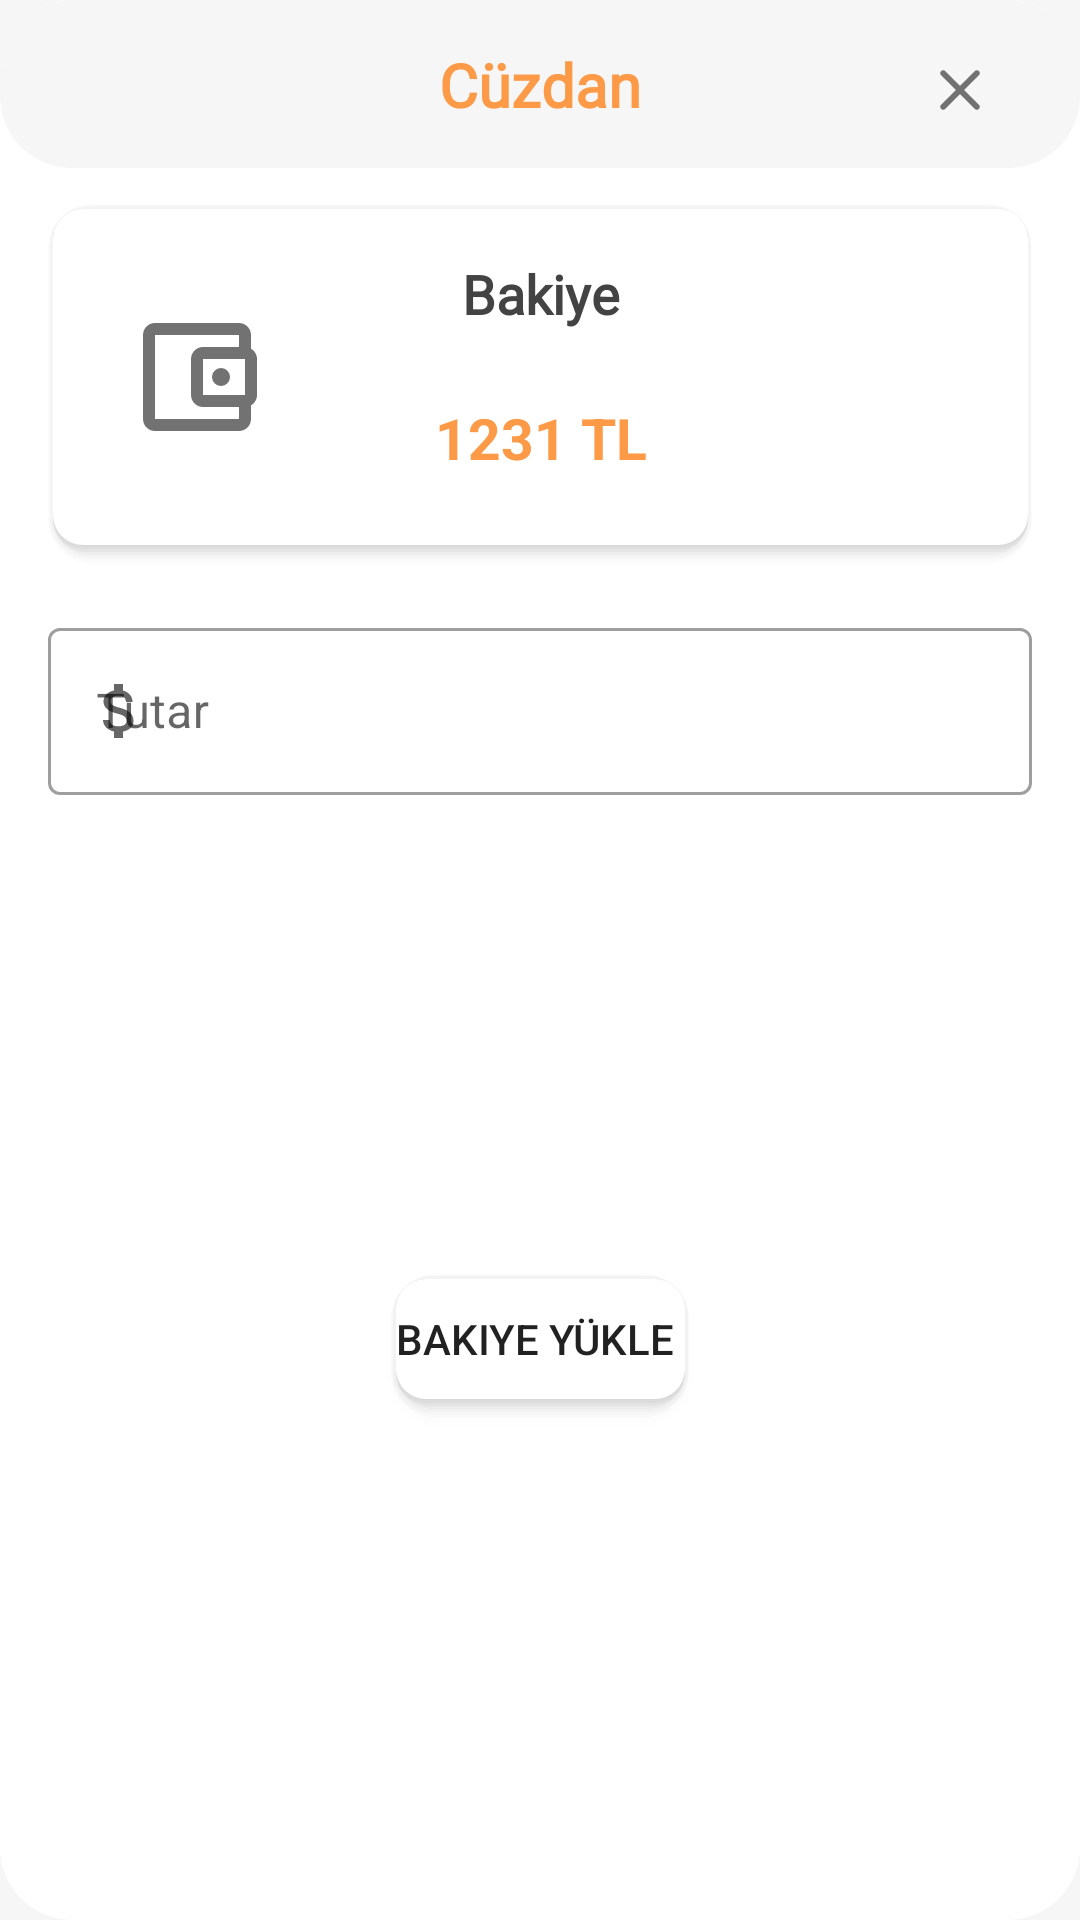

Screen size 1080×1920. Icon name, then its center in pixels as (x=x, y=y):
account balance wallet: (x=200, y=377)
close: (x=960, y=90)
